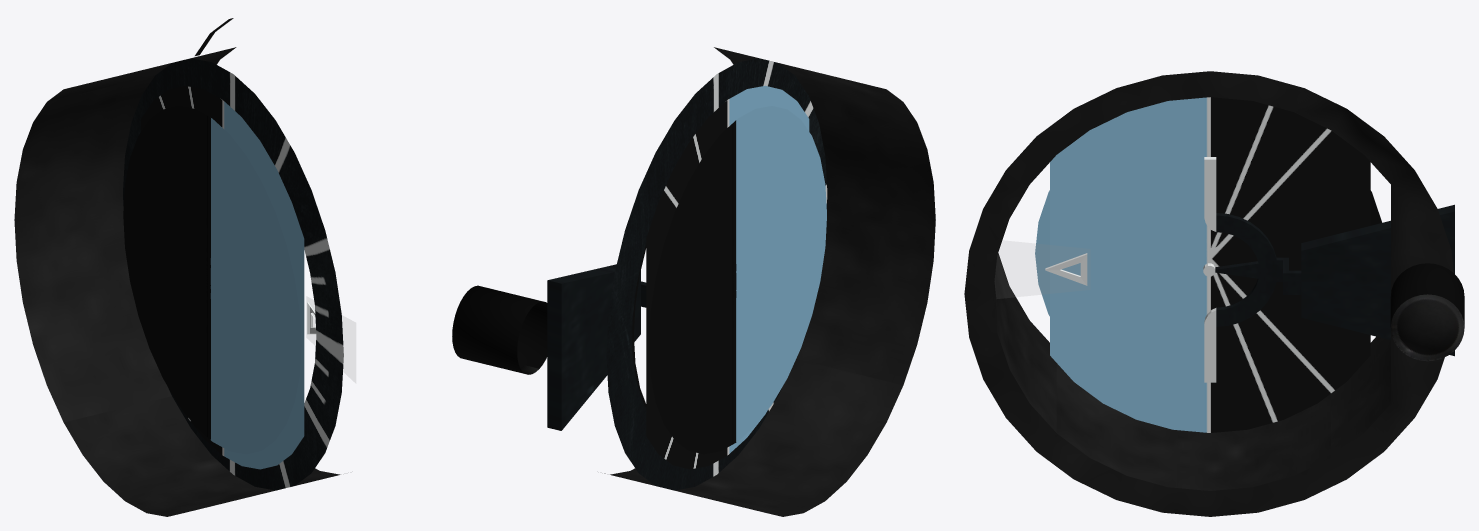
3 renders of one model, left to right at view 1: azimuth 30°, elevation 25°; view 2: azimuth 150°, elevation 25°; view 3: azimuth 270°, elevation 25°, orthographic.
Visible parts, largest first — view 1: Roll, Case, Pitch, RollRefGlass; view 2: Roll, Case, Bracket, Pitch, AdjustKnob; view 3: Pitch, Bezel, Case, Bracket, Aircraft, AdjustKnob, RollRefGlass, Roll, RollReference.
Boxes of the visible parts, x1,y1,x2,y2 form: Roll: [123, 58, 343, 490]; Case: [14, 47, 340, 516]; Pitch: [141, 86, 304, 469]; RollRefGlass: [307, 297, 355, 382]; Roll: [606, 58, 827, 490]; Case: [604, 47, 935, 516]; Bracket: [547, 264, 640, 430]; Pitch: [646, 85, 809, 469]; AdjustKnob: [452, 285, 547, 374]; Pitch: [1050, 97, 1370, 432]; Bezel: [964, 71, 1453, 516]; Case: [993, 253, 1390, 490]; Bracket: [1301, 204, 1454, 356]; Aircraft: [1203, 157, 1301, 382]; AdjustKnob: [1390, 263, 1464, 361]; RollRefGlass: [995, 241, 1089, 298]; Roll: [1035, 190, 1381, 316]; RollReference: [1045, 253, 1087, 285].
Bounding box in the file's own units: 0.045 × 0.08 × 0.0813.
